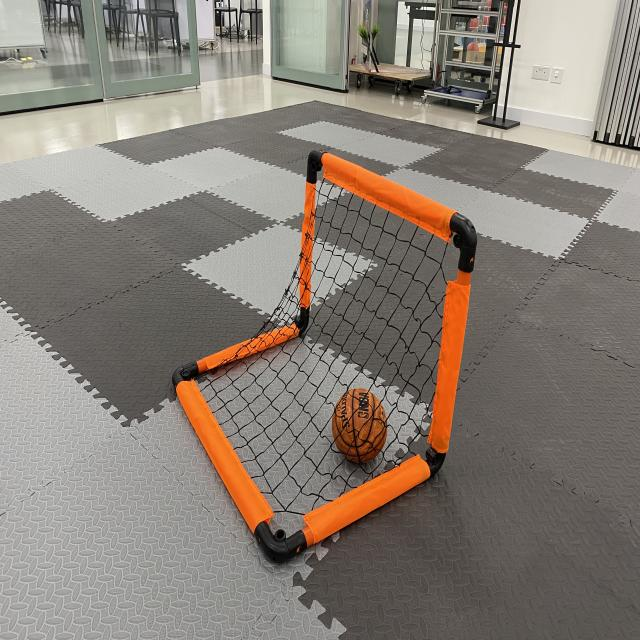ball: (329, 384, 392, 472)
gate: (167, 142, 482, 570)
